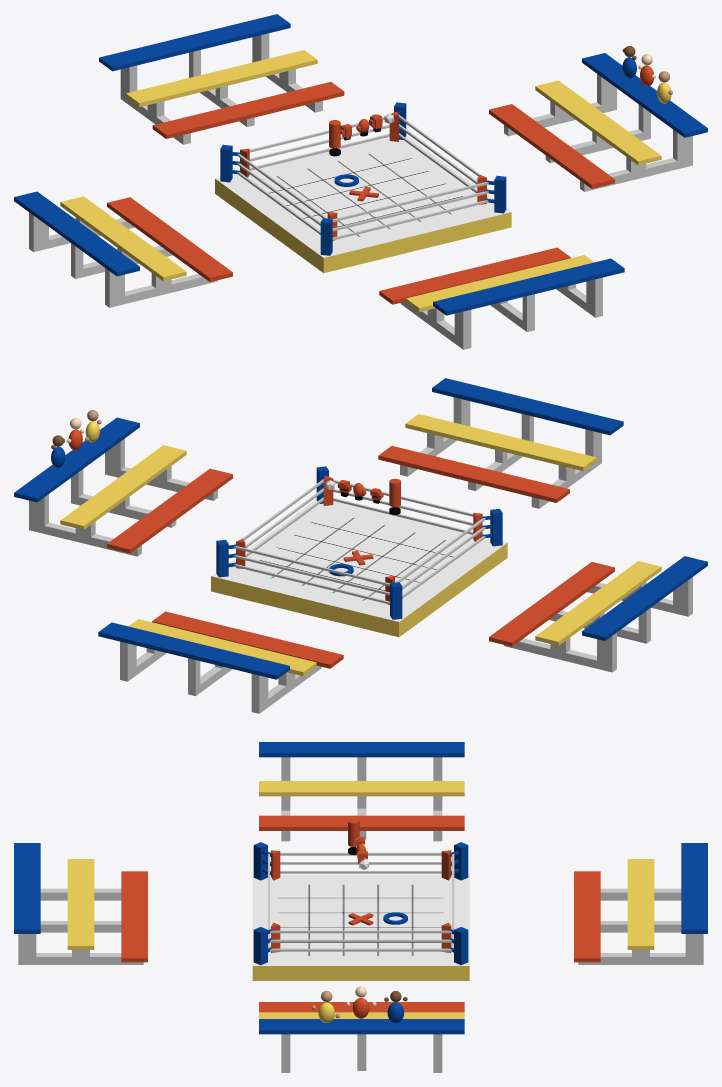
The model's file is BoxingGloves.fbx.
3 views of the same model, one above another, from view 1: azimuth 30°, elevation 25°; view 2: azimuth 150°, elevation 25°; view 3: azimuth 270°, elevation 25° (orthographic).
Parts seen in each view (by area): view 1: Ring Base, Bleacher 4, Bleacher, Bleacher 3, Bleacher 2, Ring Band Bottom, Ring Band Middle, Ring Band Top, Ring Corner Support 4, Ring Corner Support 2; view 2: Ring Base, Bleacher 2, Bleacher, Bleacher 3, Bleacher 4, Ring Band Bottom, Ring Band Middle, Ring Band Top, Ring Corner Support, Ring Corner Support 3; view 3: Ring Base, Bleacher 3, Bleacher 2, Bleacher 4, Bleacher, Ring Band Top, Ring Band Bottom, Ring Band Middle, Ring Corner Support, Ring Corner Support 4, Ring Corner Support 3, Ring Corner Support 2.
Part boxes in pixels (box(x1,y1,x2,y2)): Ring Base: box(215, 135, 511, 273); Bleacher 4: box(99, 14, 344, 144); Bleacher: box(489, 53, 707, 191); Bleacher 3: box(14, 191, 232, 307); Bleacher 2: box(379, 247, 624, 349); Ring Band Bottom: box(237, 133, 488, 240); Ring Band Middle: box(237, 124, 488, 231); Ring Band Top: box(237, 115, 488, 222); Ring Corner Support 4: box(483, 175, 506, 213); Ring Corner Support 2: box(220, 144, 242, 182); Ring Base: box(211, 499, 507, 637); Bleacher 2: box(378, 378, 623, 508); Bleacher: box(14, 417, 232, 556); Bleacher 3: box(489, 556, 707, 672); Bleacher 4: box(98, 611, 343, 713); Ring Band Bottom: box(234, 497, 485, 604); Ring Band Middle: box(234, 488, 485, 595); Ring Band Top: box(234, 479, 485, 586); Ring Corner Support: box(216, 539, 239, 577); Ring Corner Support 3: box(480, 508, 502, 546); Ring Base: box(252, 874, 469, 980); Bleacher 3: box(259, 742, 464, 841); Bleacher 2: box(14, 843, 147, 964); Bleacher 4: box(574, 843, 707, 964); Bleacher: box(259, 1002, 464, 1072); Ring Band Top: box(268, 852, 454, 933); Ring Band Bottom: box(268, 871, 453, 951); Ring Band Middle: box(268, 862, 453, 942); Ring Corner Support: box(448, 927, 468, 965); Ring Corner Support 4: box(253, 927, 273, 965); Ring Corner Support 3: box(253, 842, 271, 880); Ring Corner Support 2: box(450, 842, 468, 880).
Size of the model in its own units: 11913 by 1901 by 12121.
Materials: 1 (1 with a texture image).
